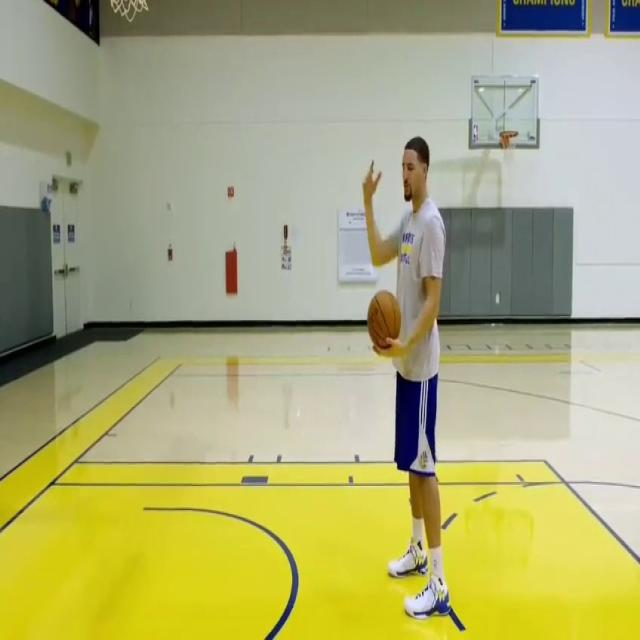ball: (368, 288, 402, 348)
